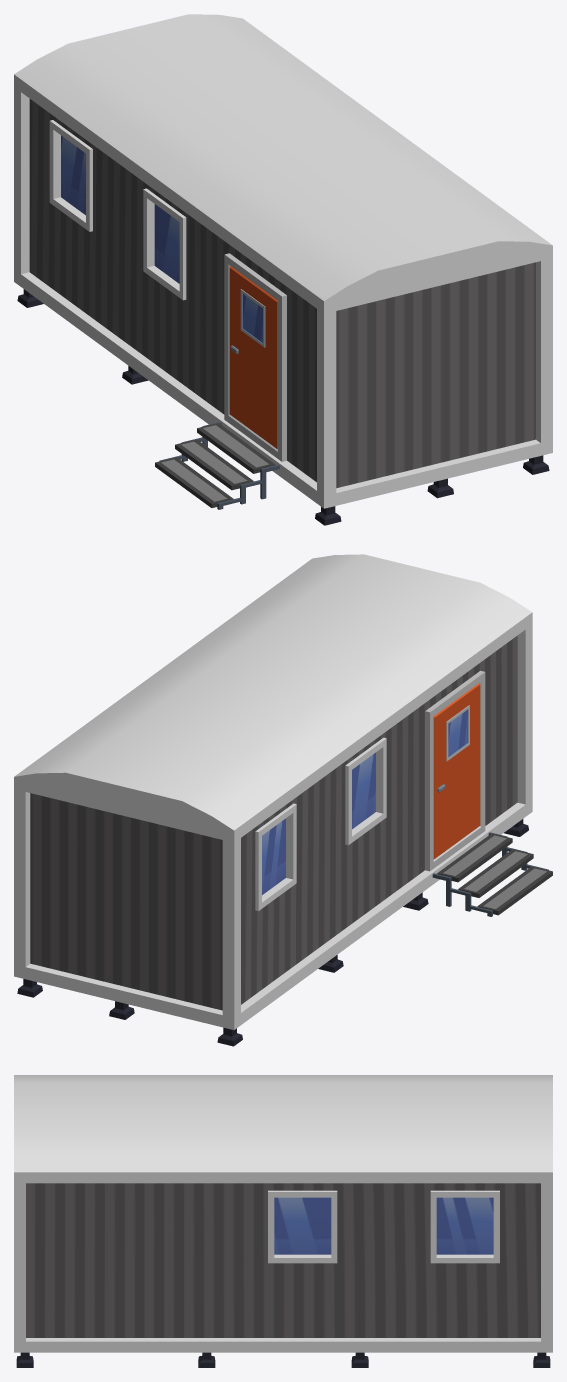
The model's file is TrailerC_1_D.fbx.
The picture shows the model from 3 angles, top to bottom: view 1: azimuth 30°, elevation 25°; view 2: azimuth 150°, elevation 25°; view 3: azimuth 270°, elevation 25°; orthographic projection. The views are drawn at different scales.
Visible parts, largest first — view 1: TrailerC_1_D; view 2: TrailerC_1_D; view 3: TrailerC_1_D.
Part boxes in pixels (box(x1,y1,x2,y2)): TrailerC_1_D: box(14, 14, 552, 525); TrailerC_1_D: box(14, 554, 552, 1046); TrailerC_1_D: box(14, 1075, 552, 1367).
Bounding box in the file's own units: 330 × 260 × 599.
